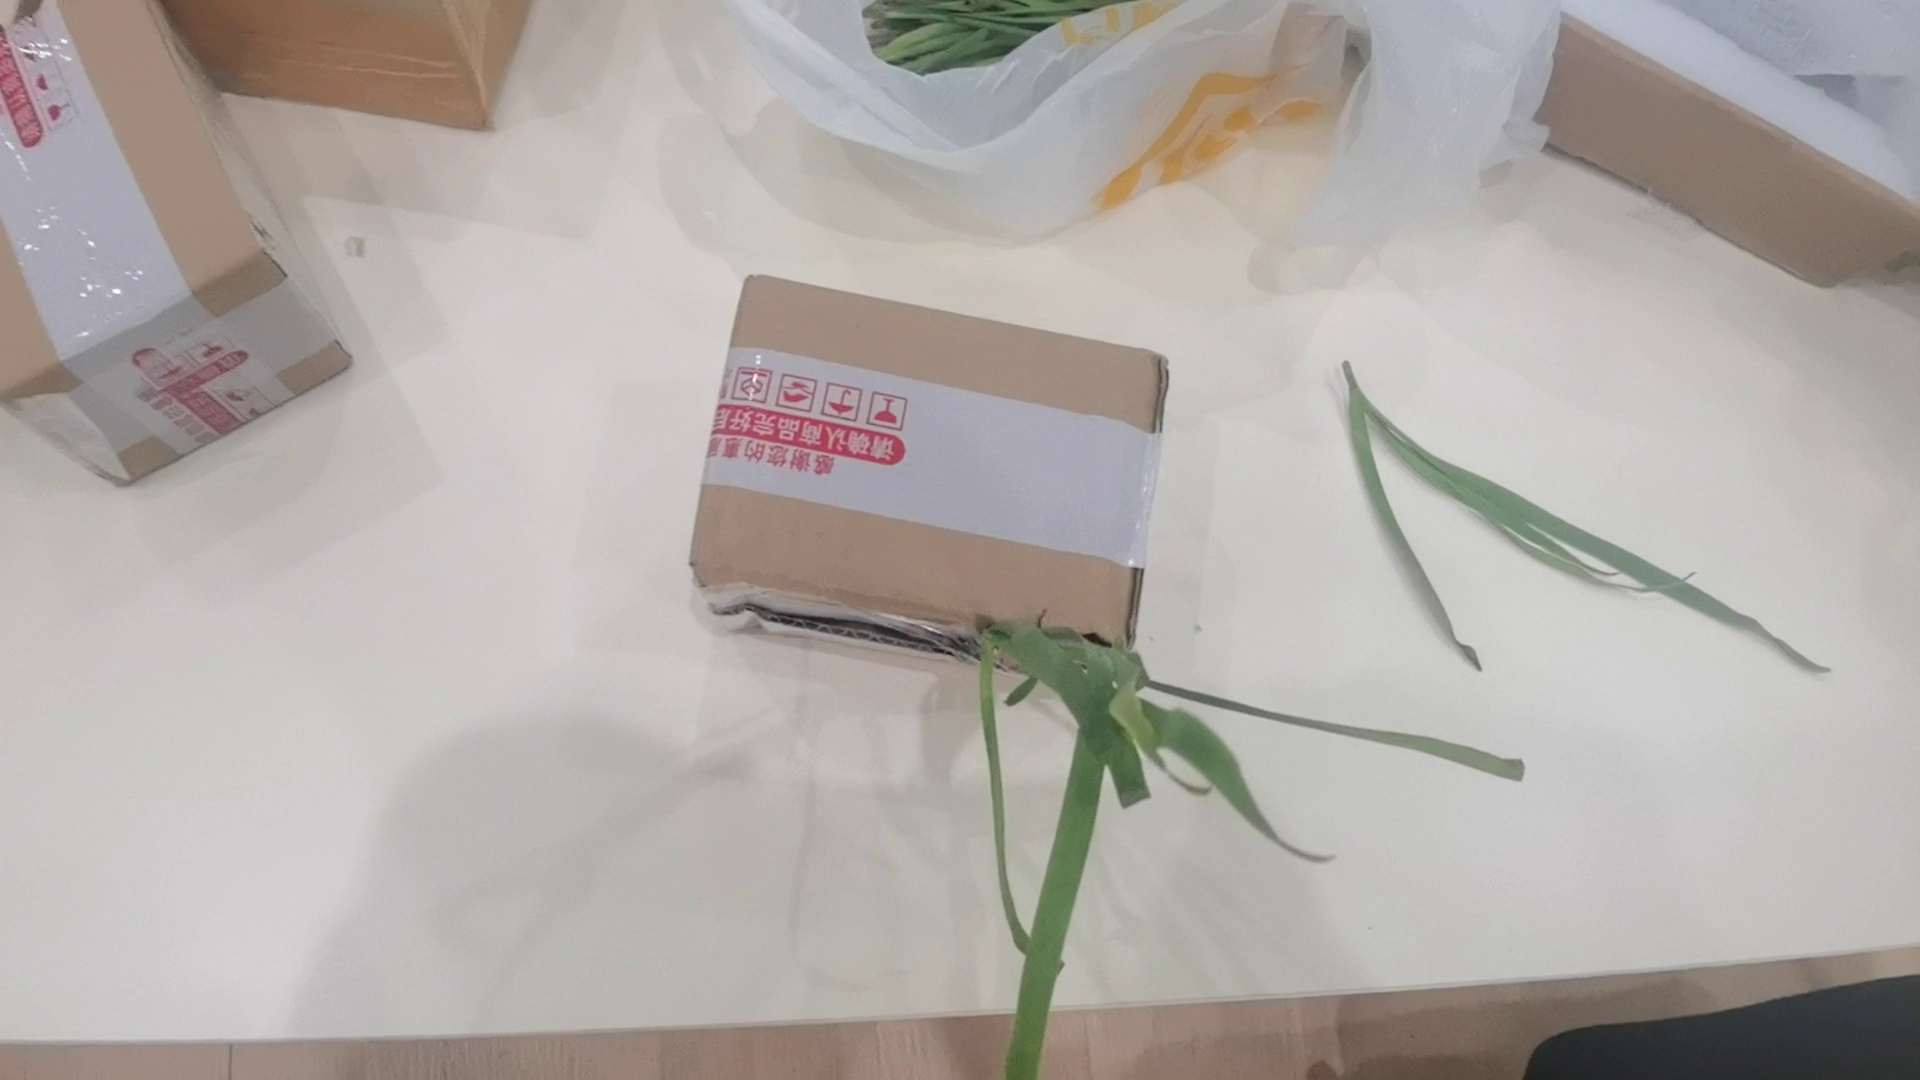chives: (916, 613, 1567, 1080), (1327, 353, 1874, 686)
